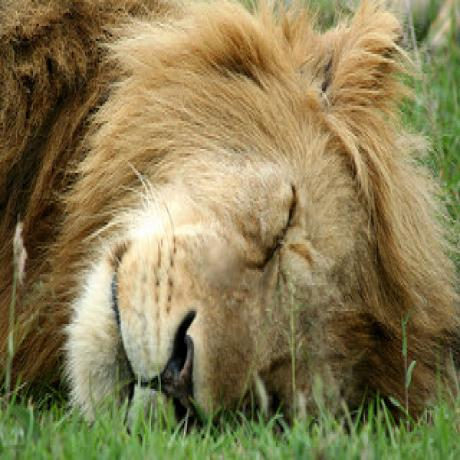Lion: (0, 0, 460, 439)
